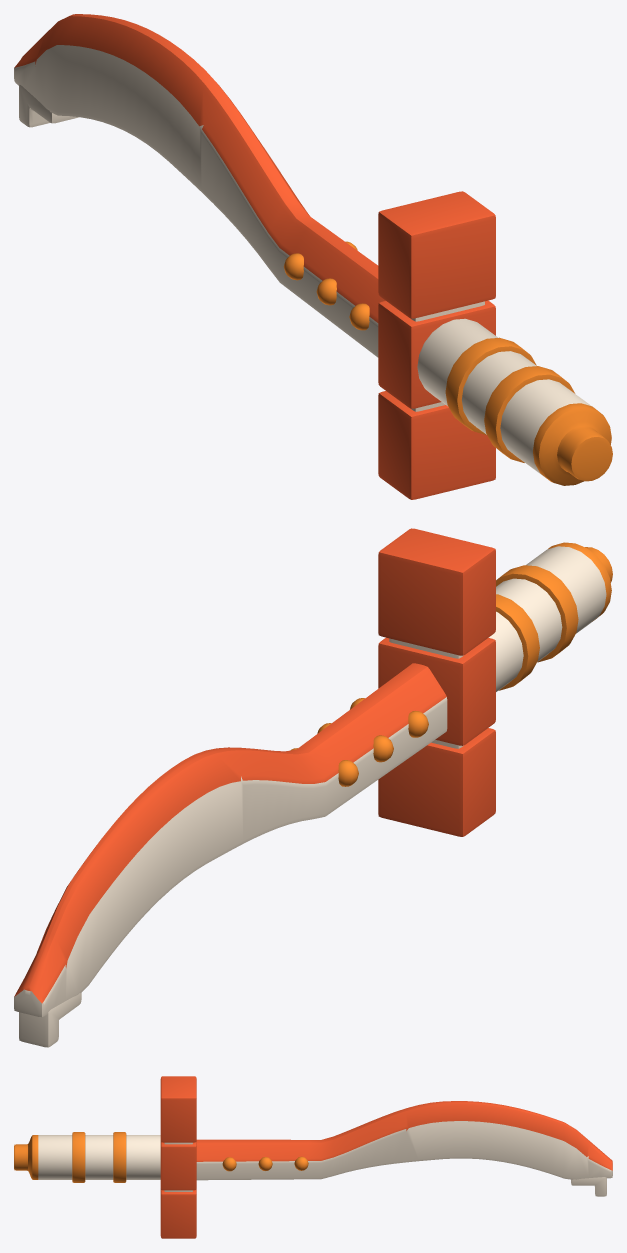
File: Sword_KilnhookKhopesh.glb
3 renders of one model, top to bottom at view 1: azimuth 30°, elevation 25°; view 2: azimuth 150°, elevation 25°; view 3: azimuth 270°, elevation 25°, orthographic. The views are drawn at different scales.
Parts seen in each view (by area): view 1: Sword_KilnhookKhopesh; view 2: Sword_KilnhookKhopesh; view 3: Sword_KilnhookKhopesh.
Boxes of the visible parts, x1,y1,x2,y2 form: Sword_KilnhookKhopesh: (14, 14, 612, 499); Sword_KilnhookKhopesh: (14, 528, 612, 1047); Sword_KilnhookKhopesh: (14, 1076, 612, 1238).
Size of the model in its own units: 0.088 by 0.26 by 1.
1 material, 1 textured.
